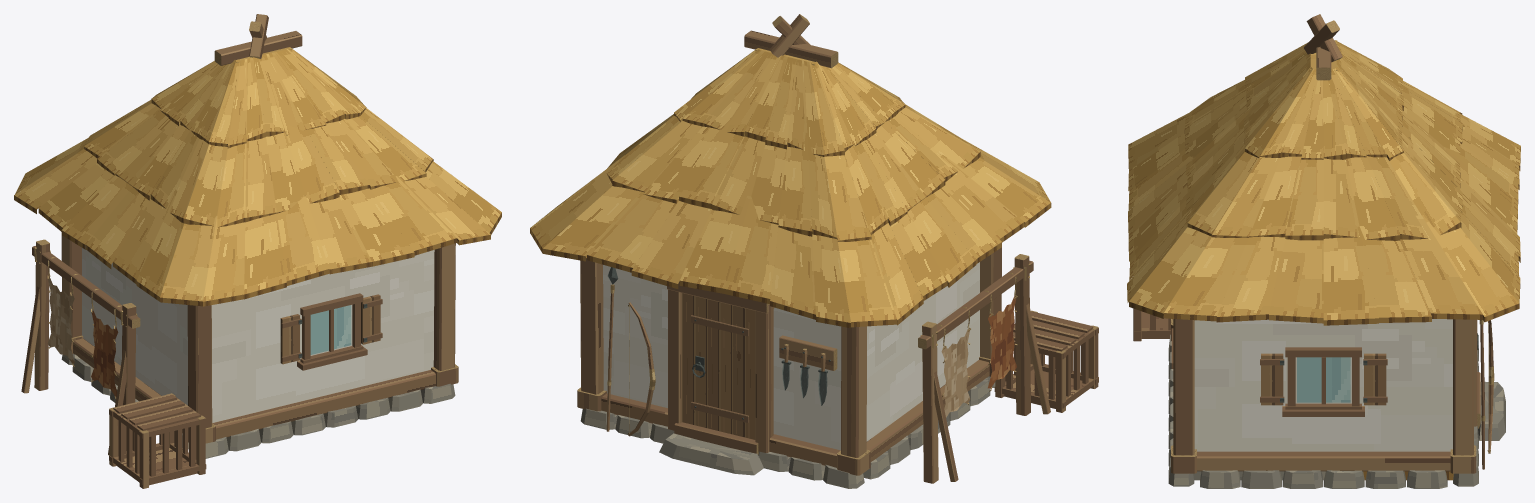
The model's file is hunter_hut.gltf.
3 views of the same model, side by side, from view 1: azimuth 30°, elevation 25°; view 2: azimuth 150°, elevation 25°; view 3: azimuth 270°, elevation 25° (orthographic). The views are drawn at different scales.
Visible parts, largest first — view 1: Thatched_course_3, Limewashed_plaster_walls, Thatched_course_2, Thatched_course_1, Hand_hewn_corner_posts_and_sill, Slatted_crate_boards_and_rails, Hide_rack_timber_posts_and_crossbar, Fieldstone_plinth, Rear_and_left_glazed_windows, Open_plank_shutters_and_hinges, Ridge_cap_and_crossed_roof_finials, Slatted_crate_corners (+3 smaller); view 2: Thatched_course_3, Thatched_course_2, Limewashed_plaster_walls, Thatched_course_1, Hand_hewn_corner_posts_and_sill, Oak_plank_door, Hide_rack_timber_posts_and_crossbar, Fieldstone_plinth, Door_posts_lintel_and_threshold, Slatted_crate_boards_and_rails, Ridge_cap_and_crossed_roof_finials, Chestnut_tanned_hide (+6 smaller); view 3: Thatched_course_3, Thatched_course_2, Limewashed_plaster_walls, Thatched_course_1, Hand_hewn_corner_posts_and_sill, Fieldstone_plinth, Rear_and_left_glazed_windows, Open_plank_shutters_and_hinges, Ridge_cap_and_crossed_roof_finials, Heavy_corner_post_foot_blocks, Slatted_crate_boards_and_rails, Door_posts_lintel_and_threshold (+2 smaller).
Boxes of the visible parts, left/top/right/bottom form: Thatched_course_3: left=14, top=138, right=501, bottom=306; Limewashed_plaster_walls: left=82, top=245, right=434, bottom=422; Thatched_course_2: left=81, top=99, right=433, bottom=227; Thatched_course_1: left=151, top=47, right=366, bottom=148; Hand_hewn_corner_posts_and_sill: left=61, top=235, right=455, bottom=439; Slatted_crate_boards_and_rails: left=109, top=393, right=206, bottom=485; Hide_rack_timber_posts_and_crossbar: left=21, top=239, right=140, bottom=455; Fieldstone_plinth: left=61, top=354, right=455, bottom=458; Rear_and_left_glazed_windows: left=297, top=293, right=367, bottom=370; Open_plank_shutters_and_hinges: left=280, top=294, right=382, bottom=364; Ridge_cap_and_crossed_roof_finials: left=214, top=14, right=302, bottom=65; Slatted_crate_corners: left=109, top=393, right=205, bottom=488; Thatched_course_3: left=530, top=138, right=1051, bottom=328; Thatched_course_2: left=606, top=104, right=980, bottom=241; Limewashed_plaster_walls: left=603, top=262, right=979, bottom=450; Thatched_course_1: left=674, top=48, right=905, bottom=156; Hand_hewn_corner_posts_and_sill: left=580, top=247, right=1001, bottom=467; Oak_plank_door: left=682, top=293, right=755, bottom=439; Hide_rack_timber_posts_and_crossbar: left=918, top=254, right=1050, bottom=483; Fieldstone_plinth: left=580, top=376, right=995, bottom=488; Door_posts_lintel_and_threshold: left=667, top=281, right=774, bottom=454; Slatted_crate_boards_and_rails: left=994, top=311, right=1098, bottom=408; Ridge_cap_and_crossed_roof_finials: left=744, top=14, right=838, bottom=68; Chestnut_tanned_hide: left=988, top=296, right=1016, bottom=388; Thatched_course_3: left=1127, top=110, right=1520, bottom=325; Thatched_course_2: left=1184, top=79, right=1462, bottom=240; Limewashed_plaster_walls: left=1194, top=319, right=1452, bottom=451; Thatched_course_1: left=1244, top=40, right=1403, bottom=160; Hand_hewn_corner_posts_and_sill: left=1173, top=319, right=1473, bottom=471; Fieldstone_plinth: left=1168, top=334, right=1505, bottom=488; Rear_and_left_glazed_windows: left=1171, top=328, right=1364, bottom=416; Open_plank_shutters_and_hinges: left=1260, top=353, right=1387, bottom=405; Ridge_cap_and_crossed_roof_finials: left=1304, top=14, right=1342, bottom=80; Heavy_corner_post_foot_blocks: left=1171, top=319, right=1476, bottom=473; Slatted_crate_boards_and_rails: left=1134, top=311, right=1170, bottom=338; Door_posts_lintel_and_threshold: left=1474, top=319, right=1480, bottom=428.
Size of the model in its own units: 5.78 by 5.31 by 4.76.
1 material, 1 textured.
